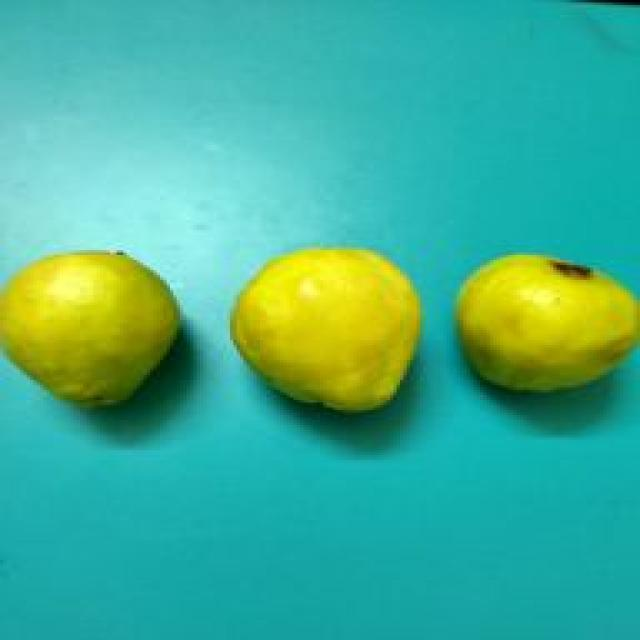Good_Guava: (230, 248, 420, 418), (0, 252, 180, 410), (453, 255, 640, 395)
